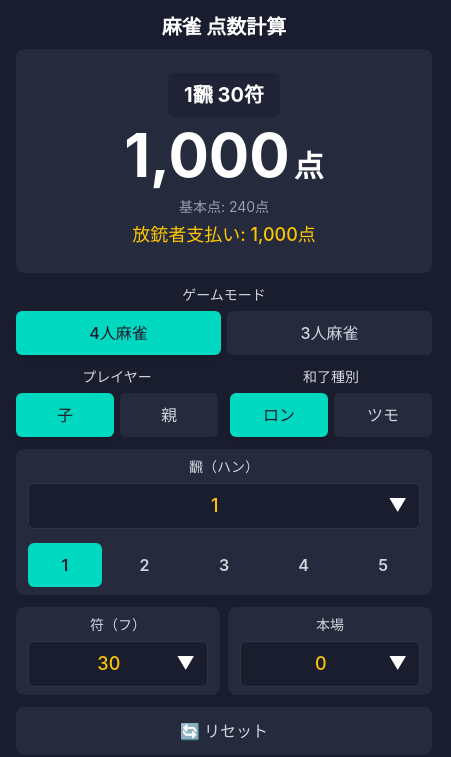
ロン/ツモの切り替え
# ツモボタンをクリック
Click the button "ツモ" at (383, 415), box x1=334 y1=393 x2=432 y2=437
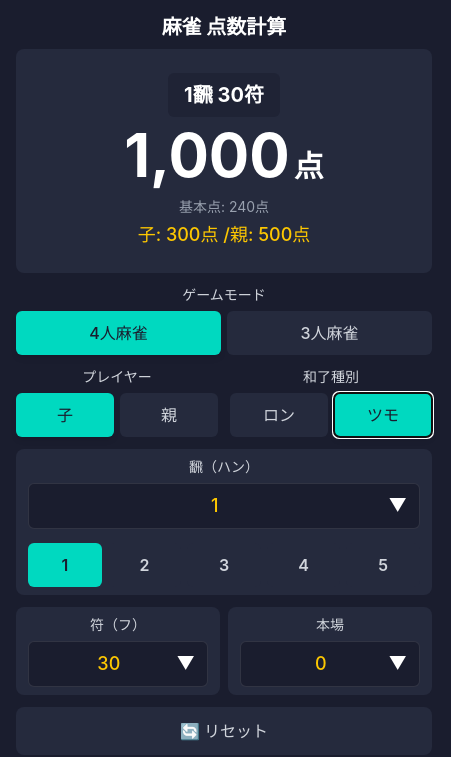
Expected: the text "子: 300点 /親: 500点" is shown, x1=138 y1=224 x2=310 y2=245
